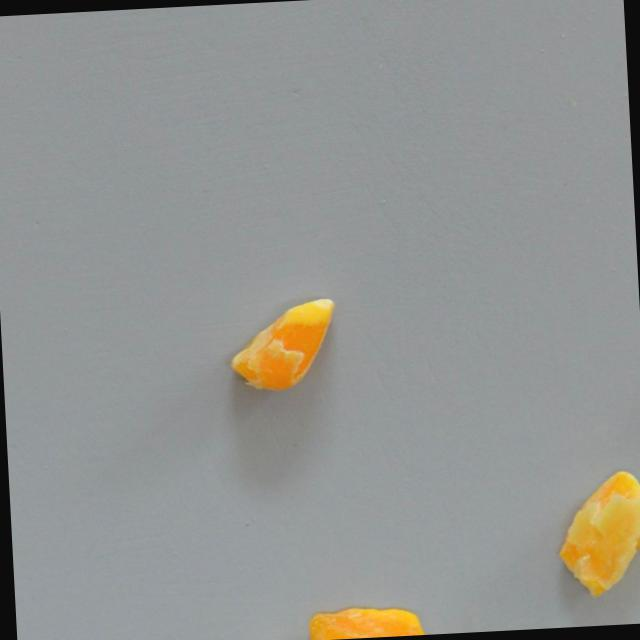pelicula: (222, 292, 343, 401), (553, 469, 640, 602), (303, 597, 435, 640)
